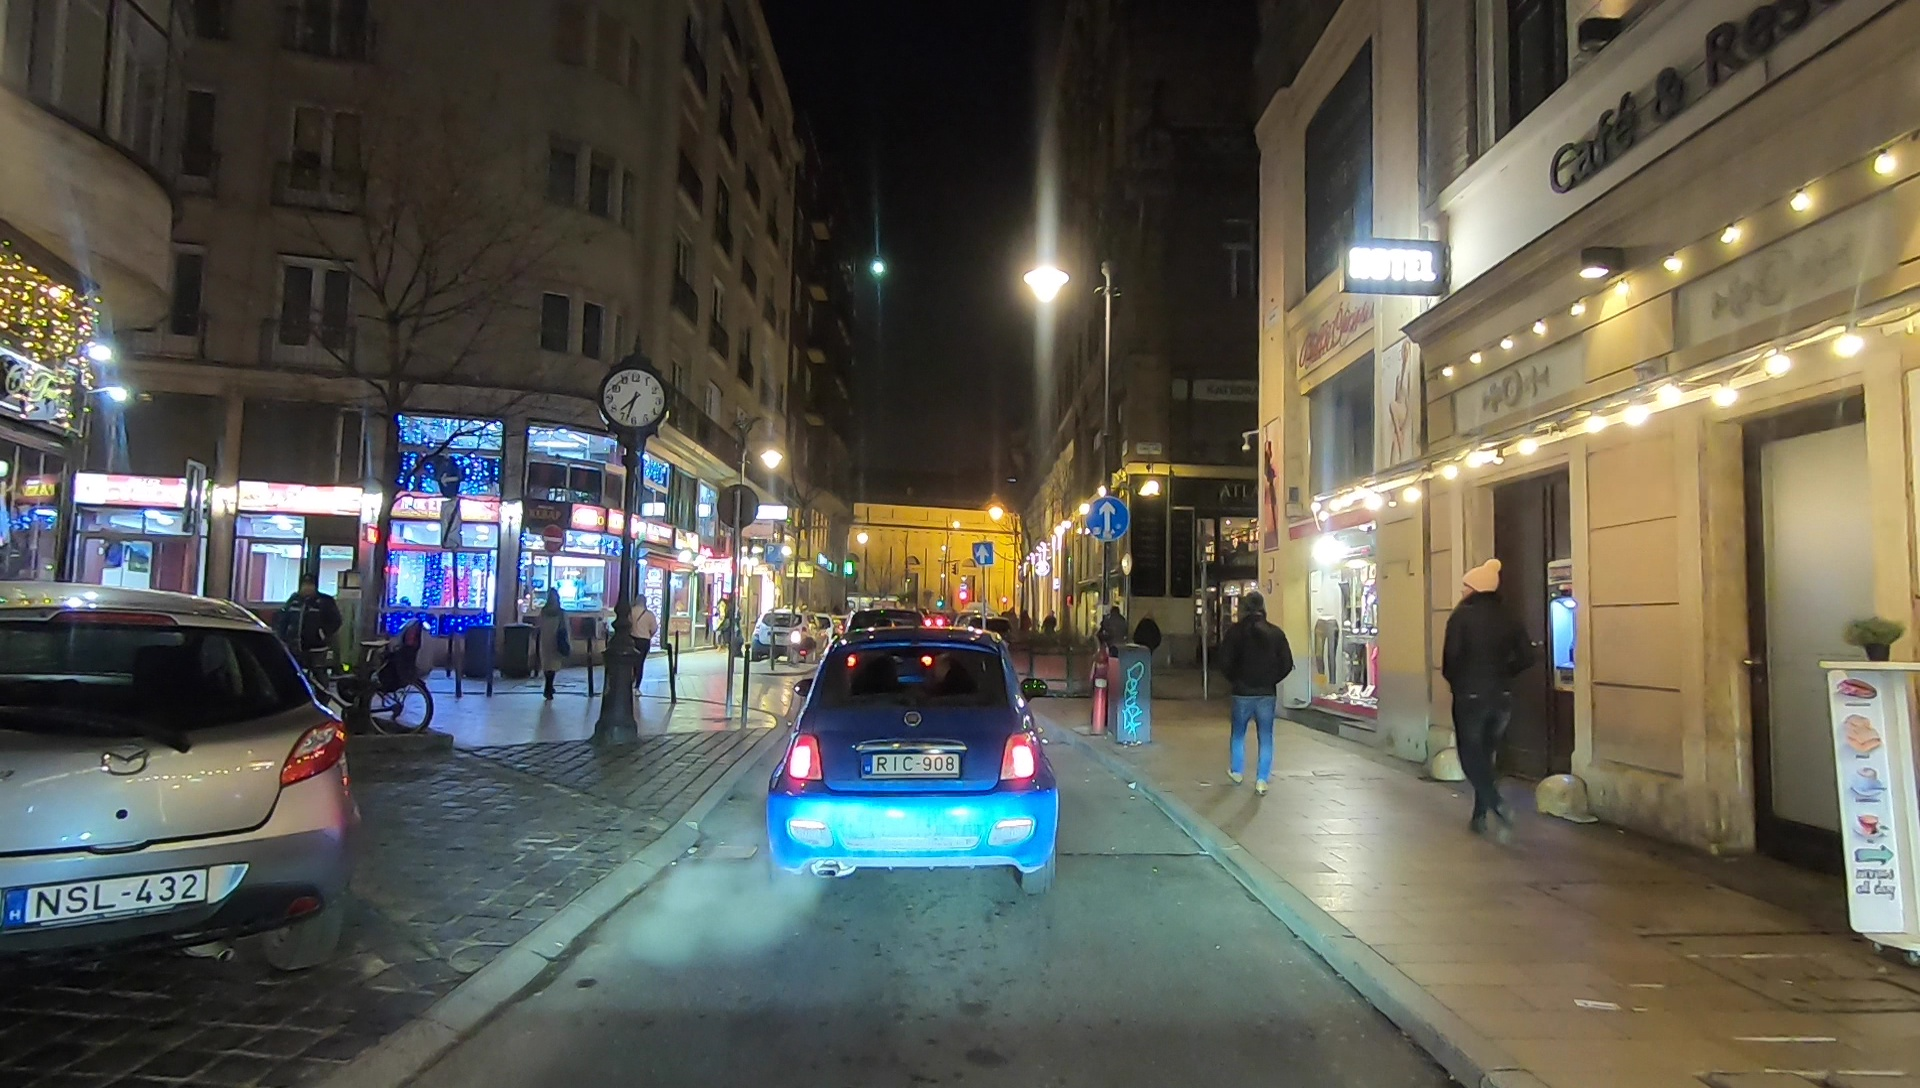person: (1441, 560, 1530, 847), (1215, 589, 1293, 795), (273, 574, 343, 715), (534, 586, 575, 702), (621, 595, 660, 699), (1095, 604, 1126, 706), (1136, 610, 1160, 699), (1043, 608, 1056, 665)
